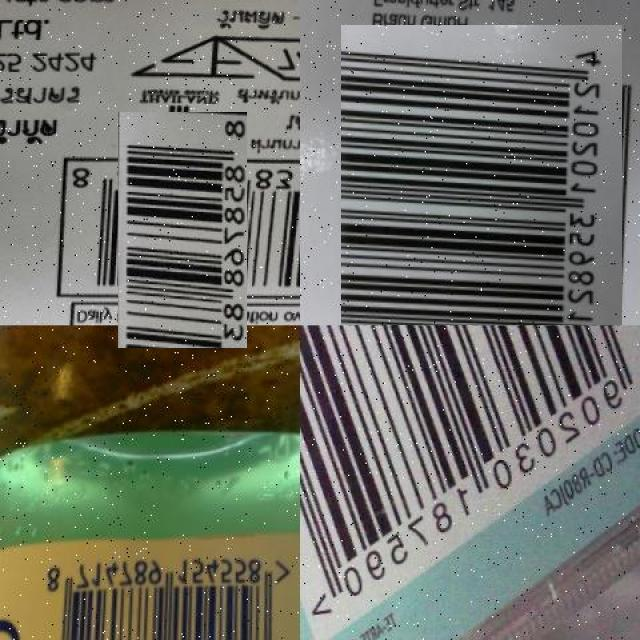Barcode: (300, 325, 640, 640), (331, 34, 631, 334), (90, 139, 274, 321), (29, 542, 299, 640)
